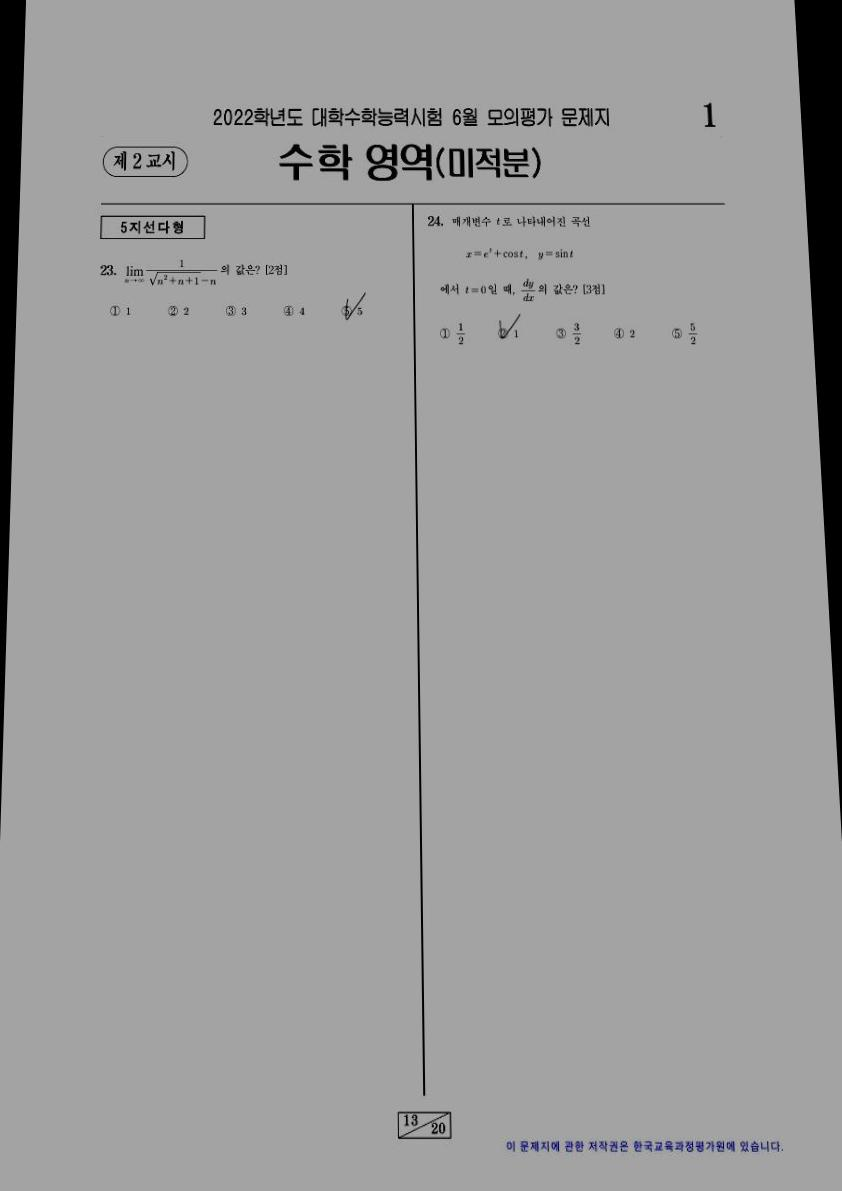question: (414, 208, 716, 364), (82, 246, 382, 339)
